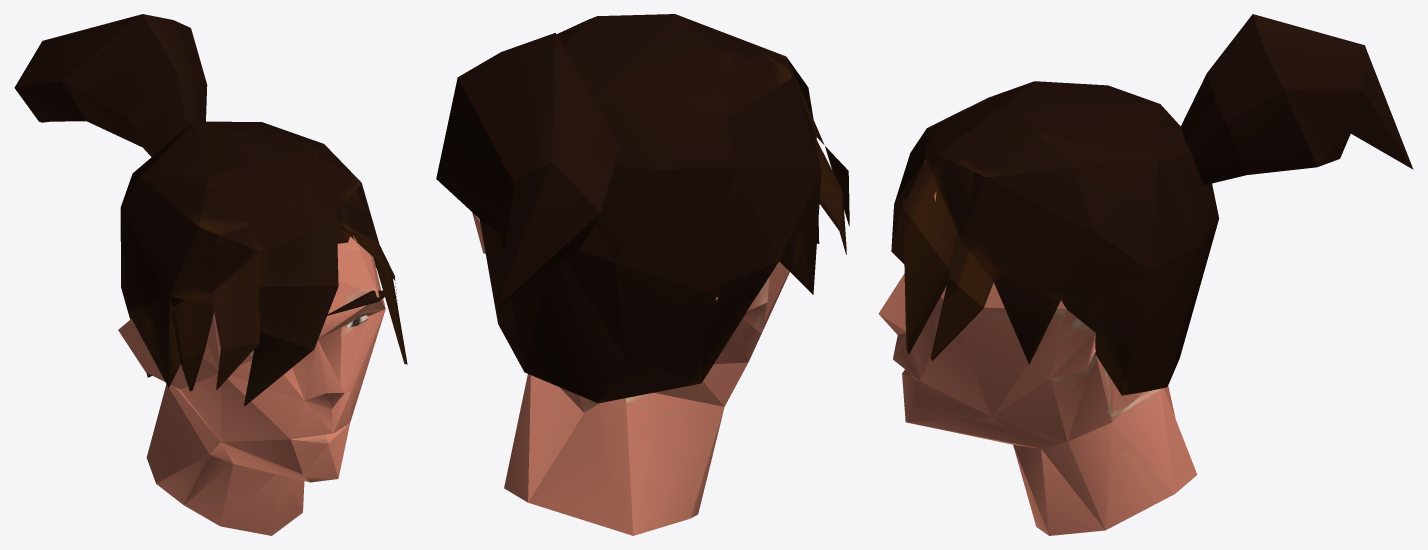
The model's file is corpse head.fbx.
The picture shows the model from 3 angles, left to right: view 1: azimuth 30°, elevation 25°; view 2: azimuth 150°, elevation 25°; view 3: azimuth 270°, elevation 25°; orthographic projection. The views are drawn at different scales.
Visible parts, largest first — view 1: Human 2; view 2: Human 2; view 3: Human 2.
Part boxes in pixels (x1=…): Human 2: x1=14, y1=14, x2=407, y2=535; Human 2: x1=436, y1=14, x2=849, y2=535; Human 2: x1=878, y1=14, x2=1413, y2=535.
Size of the model in its own units: 18.53 by 34.47 by 33.63.
3 materials, 3 textured.
